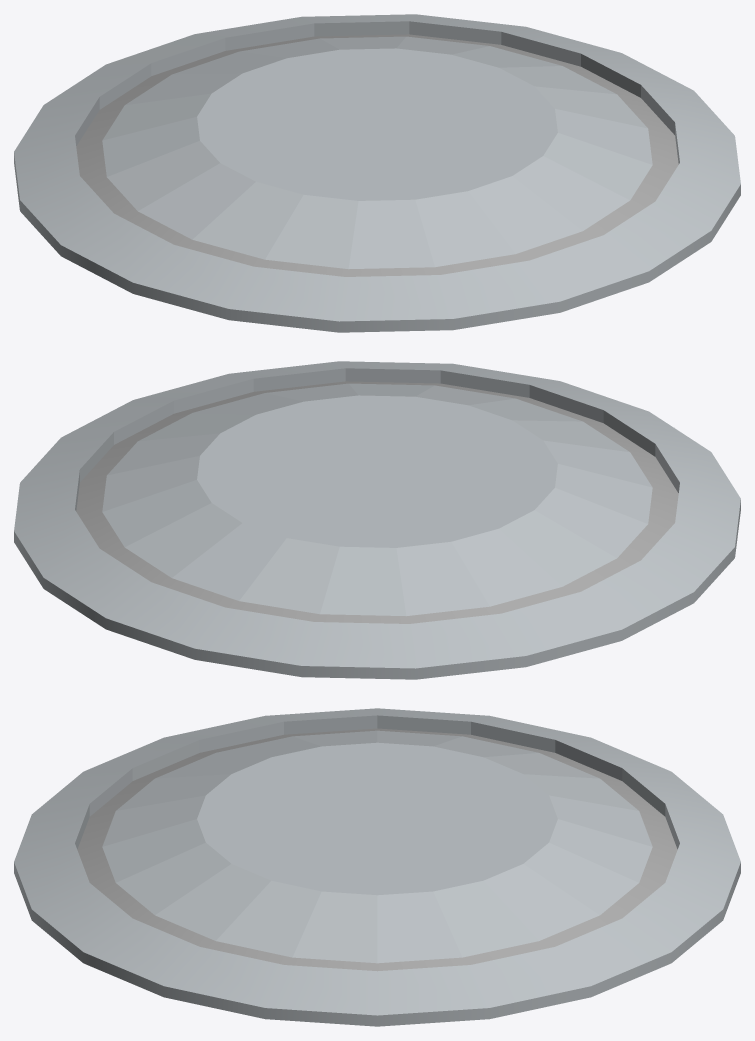
The model's file is Portal.fbx.
The picture shows the model from 3 angles, top to bottom: view 1: azimuth 30°, elevation 25°; view 2: azimuth 150°, elevation 25°; view 3: azimuth 270°, elevation 25°; orthographic projection.
Visible parts, largest first — view 1: pCylinder8; view 2: pCylinder8; view 3: pCylinder8.
Part boxes in pixels (box(x1,y1,x2,y2)): pCylinder8: box(14, 14, 740, 332); pCylinder8: box(14, 361, 740, 679); pCylinder8: box(14, 708, 740, 1026).
Size of the model in its own units: 429 by 35.19 by 429.
